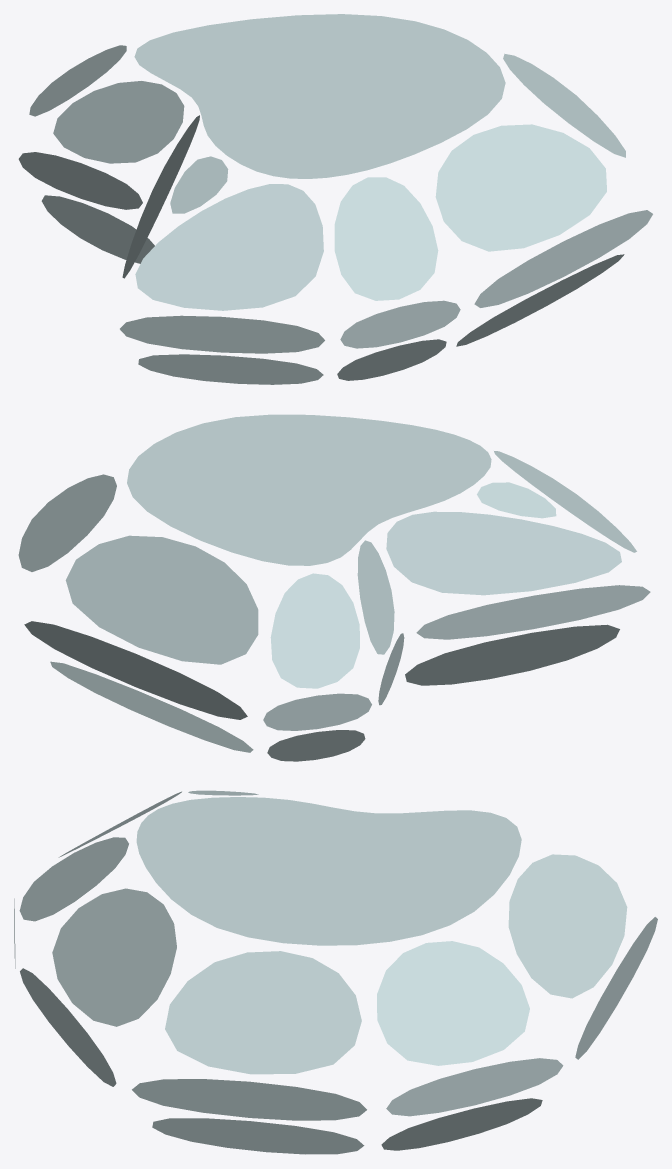
The model's file is stone_largeC.glb.
3 views of the same model, one above another, from view 1: azimuth 30°, elevation 25°; view 2: azimuth 150°, elevation 25°; view 3: azimuth 270°, elevation 25° (orthographic). The views are drawn at different scales.
Parts seen in each view (by area): view 1: stone_largeC; view 2: stone_largeC; view 3: stone_largeC.
Boxes of the visible parts, box(x1,y1,x2,y2) form: stone_largeC: box(18, 14, 652, 384); stone_largeC: box(18, 414, 650, 761); stone_largeC: box(14, 790, 657, 1154).
Bounding box in the file's own units: 1.05 × 0.3211 × 1.01.
